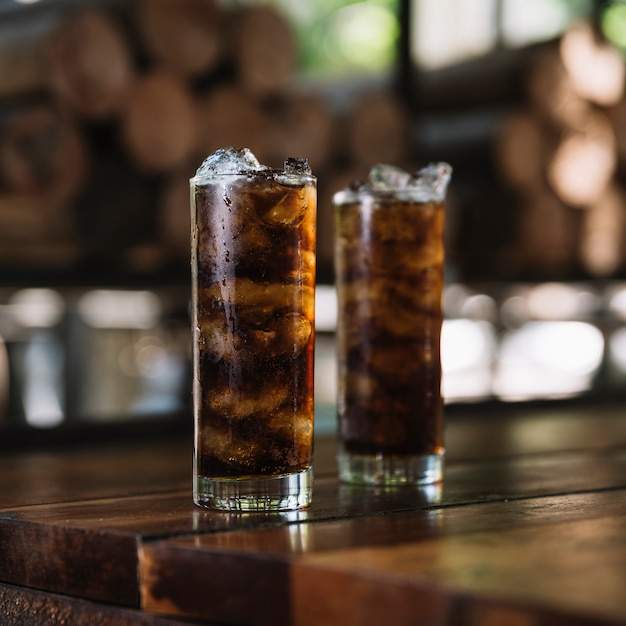alcohol: (188, 142, 319, 512), (334, 164, 450, 486)
